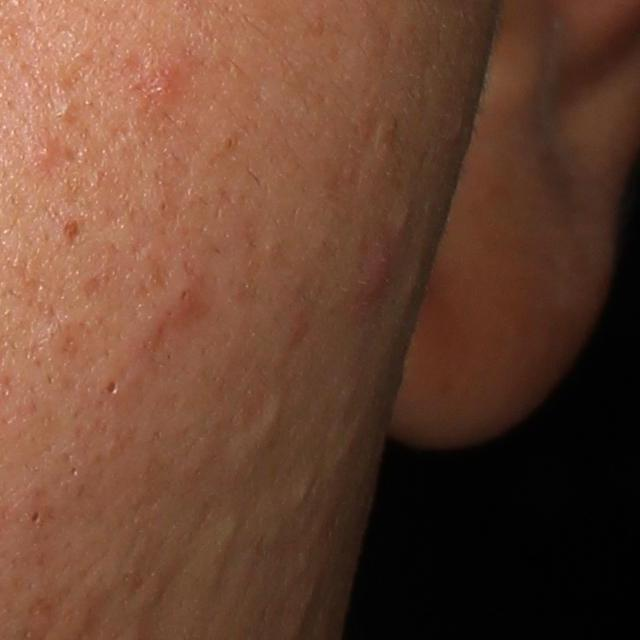comedo: (260, 394, 288, 432), (293, 473, 318, 509), (54, 100, 78, 123), (218, 519, 237, 547), (103, 378, 122, 397)
papule: (142, 55, 187, 103), (358, 243, 392, 302), (36, 142, 58, 165)
